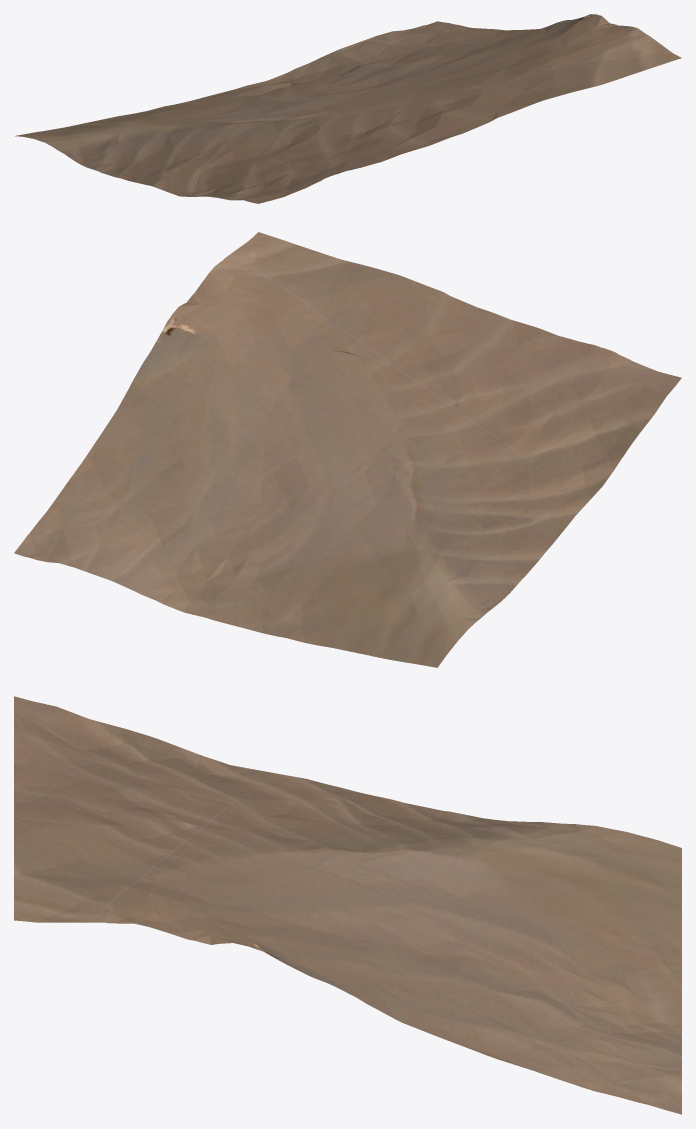
3 renders of one model, top to bottom at view 1: azimuth 30°, elevation 25°; view 2: azimuth 150°, elevation 25°; view 3: azimuth 270°, elevation 25°, orthographic. The views are drawn at different scales.
Size of the model in its own units: 1.04 by 0.3808 by 1.04.
3 materials, 3 textured.
